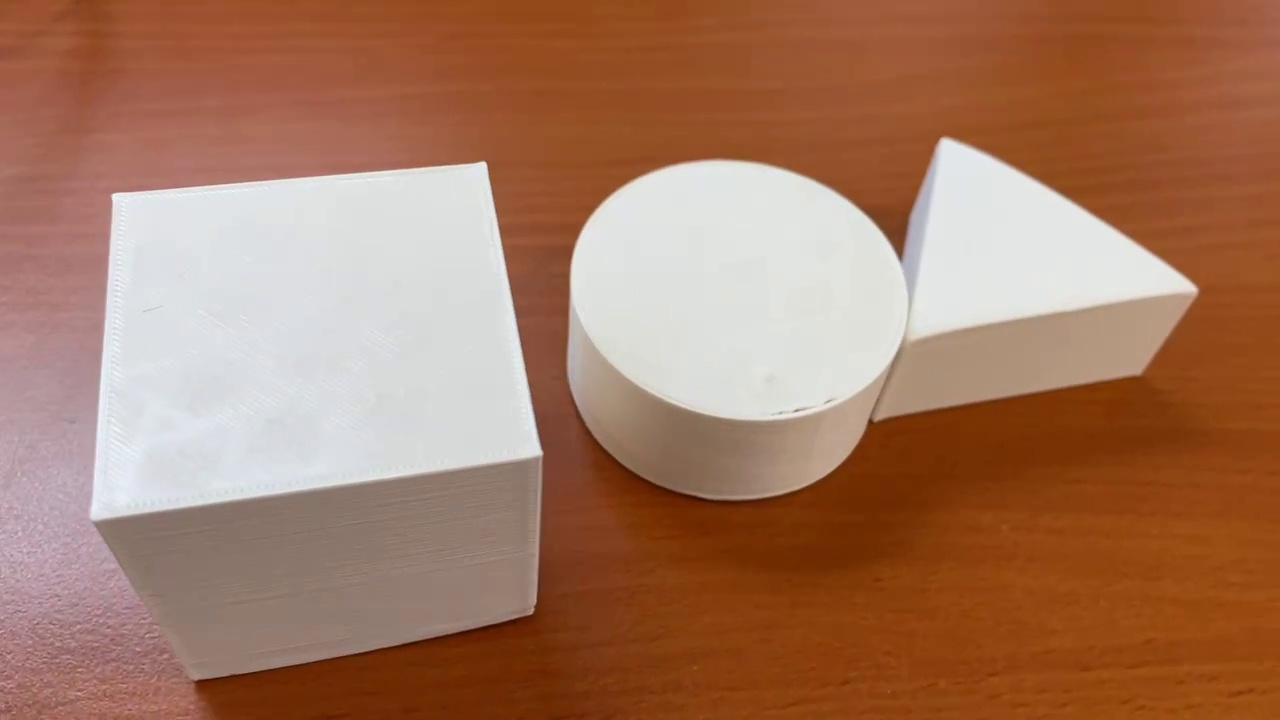Cube: (95, 160, 547, 682)
Cylinder_short: (561, 157, 908, 506)
Triangle_short: (868, 133, 1201, 418)
